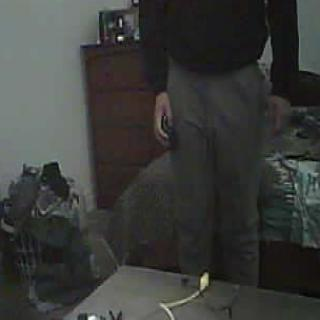Gray Sweatpants: (164, 57, 275, 290)
